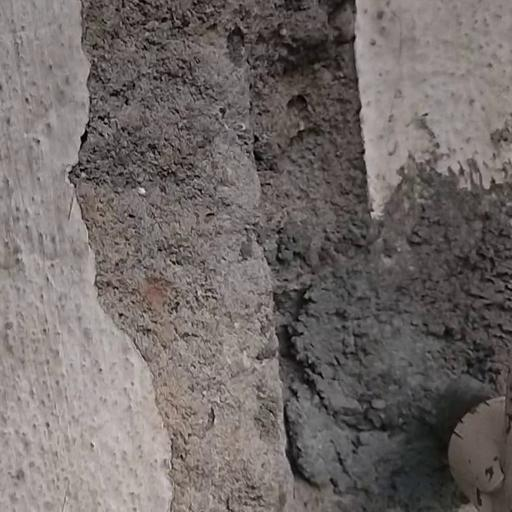spalling: (73, 0, 512, 512)
